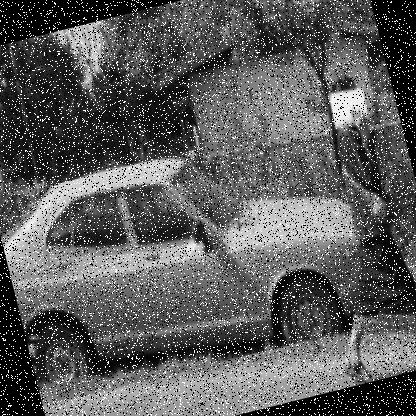Car: (0, 116, 382, 409)
